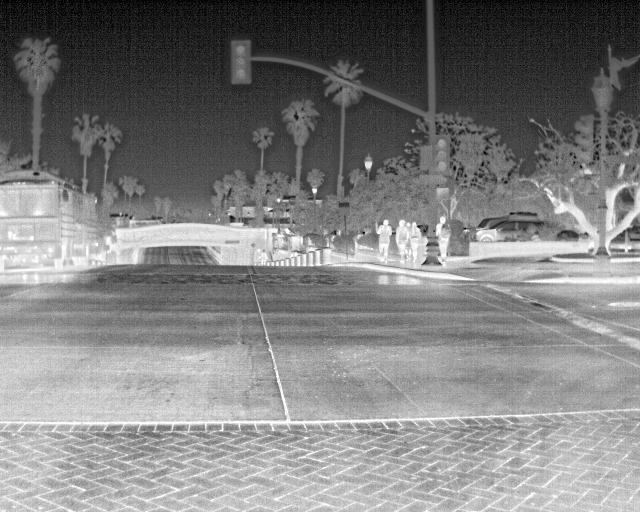bicycle: (472, 217, 544, 245), (475, 214, 509, 231)
empty: (374, 216, 393, 262), (394, 218, 409, 264), (435, 217, 449, 261), (406, 219, 419, 265)
